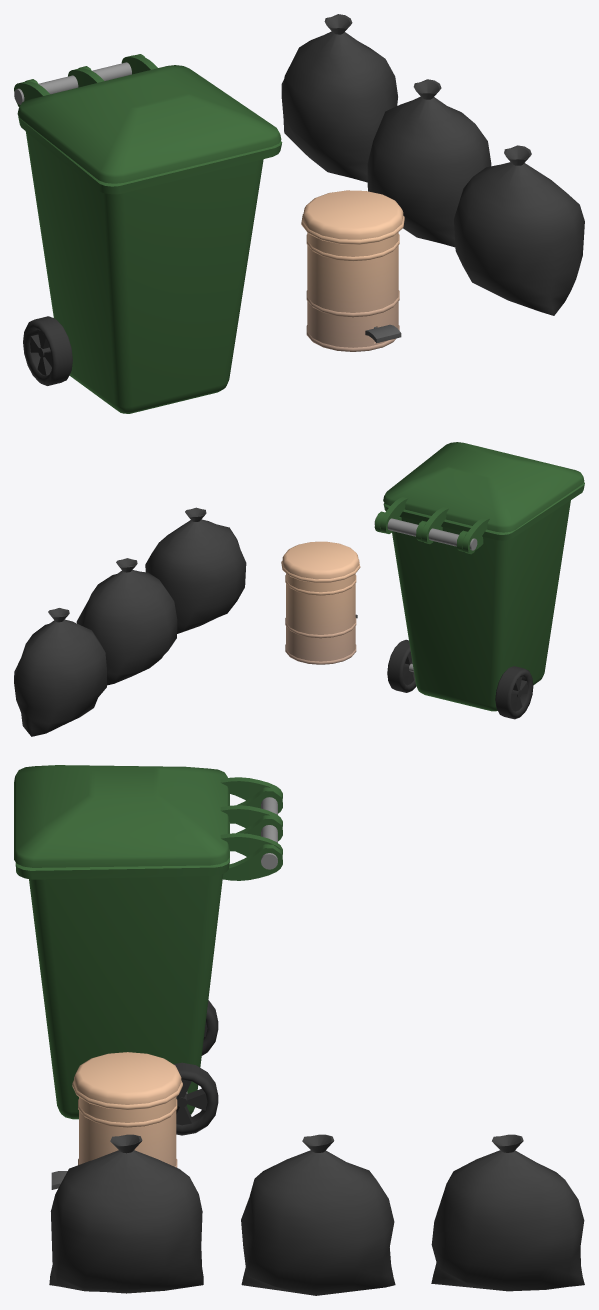
File: trash.fbx
3 views of the same model, one above another, from view 1: azimuth 30°, elevation 25°; view 2: azimuth 150°, elevation 25°; view 3: azimuth 270°, elevation 25° (orthographic). The views are drawn at different scales.
Visible parts, largest first — view 1: trash_Big, cover_Big, trash_Bag_1, trash_Bag_3, trash_Bag_2, trash_Small, cover_Small, wheel; view 2: trash_Big, cover_Big, trash_Bag_3, trash_Bag_1, trash_Bag_2, trash_Small, wheel, cover_Small; view 3: trash_Big, cover_Big, trash_Bag_1, trash_Bag_2, trash_Bag_3, cover_Small, trash_Small, wheel.
Part boxes in pixels (bbox=[...]): trash_Big: bbox=[18, 54, 282, 413]; cover_Big: bbox=[14, 55, 281, 183]; trash_Bag_1: bbox=[454, 145, 584, 315]; trash_Bag_3: bbox=[281, 14, 397, 182]; trash_Bag_2: bbox=[367, 79, 491, 247]; trash_Small: bbox=[306, 232, 399, 351]; cover_Small: bbox=[301, 190, 404, 244]; wheel: bbox=[23, 316, 72, 385]; trash_Big: bbox=[374, 482, 584, 711]; cover_Big: bbox=[374, 442, 584, 554]; trash_Bag_3: bbox=[14, 608, 106, 736]; trash_Bag_1: bbox=[145, 507, 246, 633]; trash_Bag_2: bbox=[76, 558, 177, 685]; trash_Small: bbox=[285, 573, 356, 664]; wheel: bbox=[387, 639, 533, 719]; cover_Small: bbox=[281, 541, 360, 582]; trash_Big: bbox=[15, 787, 282, 1119]; cover_Big: bbox=[14, 765, 282, 869]; trash_Bag_1: bbox=[49, 1134, 203, 1293]; trash_Bag_2: bbox=[241, 1134, 395, 1295]; trash_Bag_3: bbox=[431, 1134, 584, 1291]; cover_Small: bbox=[72, 1052, 182, 1110]; trash_Small: bbox=[78, 1097, 177, 1167]; wheel: bbox=[174, 1000, 218, 1135].
Size of the model in its own units: 8.27 by 7.41 by 4.48.
